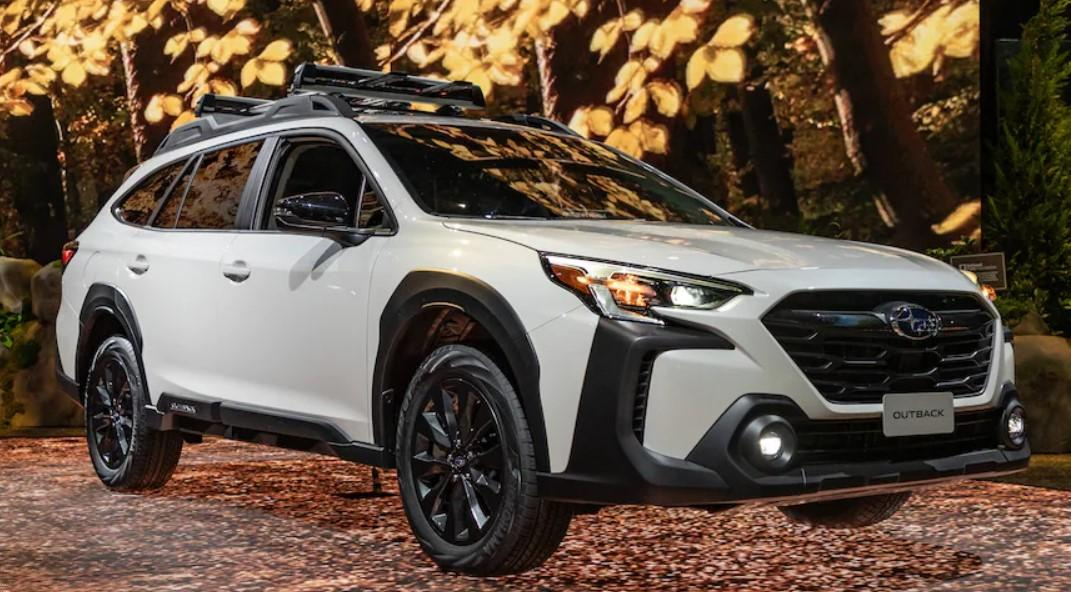subaru: (876, 300, 964, 344)
